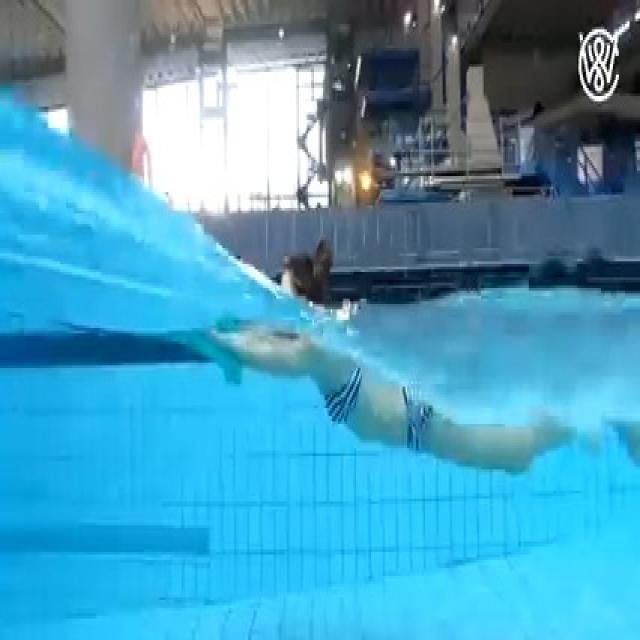Swimming: (205, 252, 557, 481)
